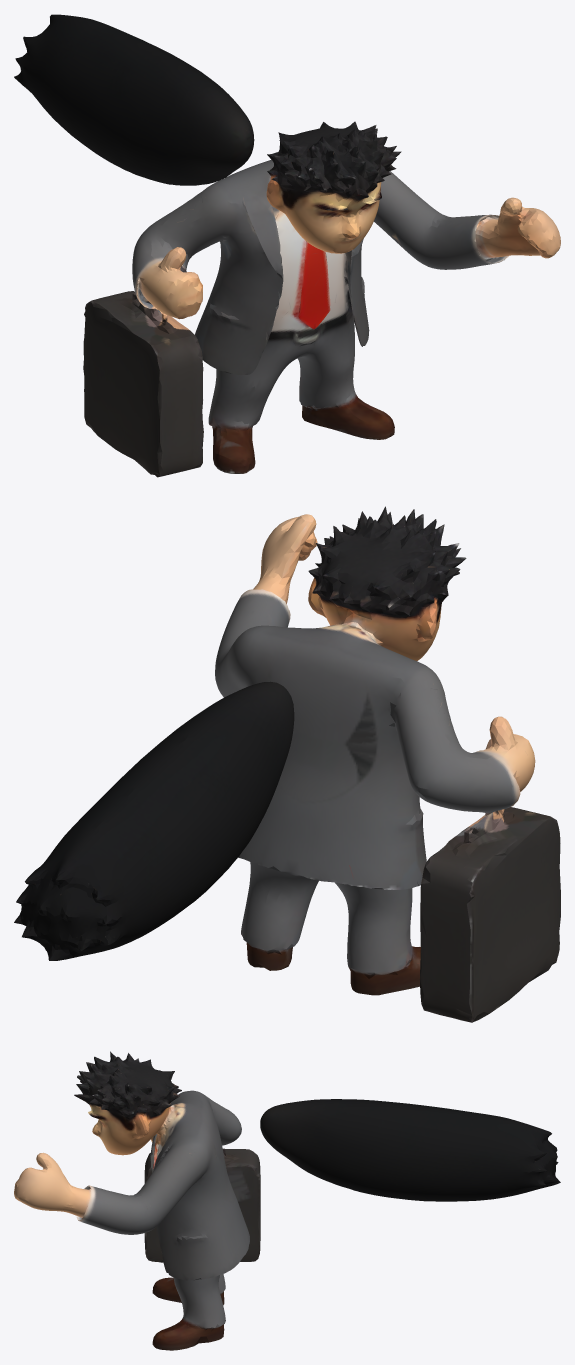
Rendered from enemy-business.glb.
The picture shows the model from 3 angles, top to bottom: view 1: azimuth 30°, elevation 25°; view 2: azimuth 150°, elevation 25°; view 3: azimuth 270°, elevation 25°; orthographic projection. The views are drawn at different scales.
Parts seen in each view (by area): view 1: ChibiBusiness; view 2: ChibiBusiness; view 3: ChibiBusiness.
Boxes of the visible parts, box(x1,y1,x2,y2) form: ChibiBusiness: box(14, 14, 560, 477); ChibiBusiness: box(14, 506, 560, 1022); ChibiBusiness: box(14, 1051, 560, 1350).
Size of the model in its own units: 1.44 by 1.44 by 2.78.
Materials: 1 (1 with a texture image).
